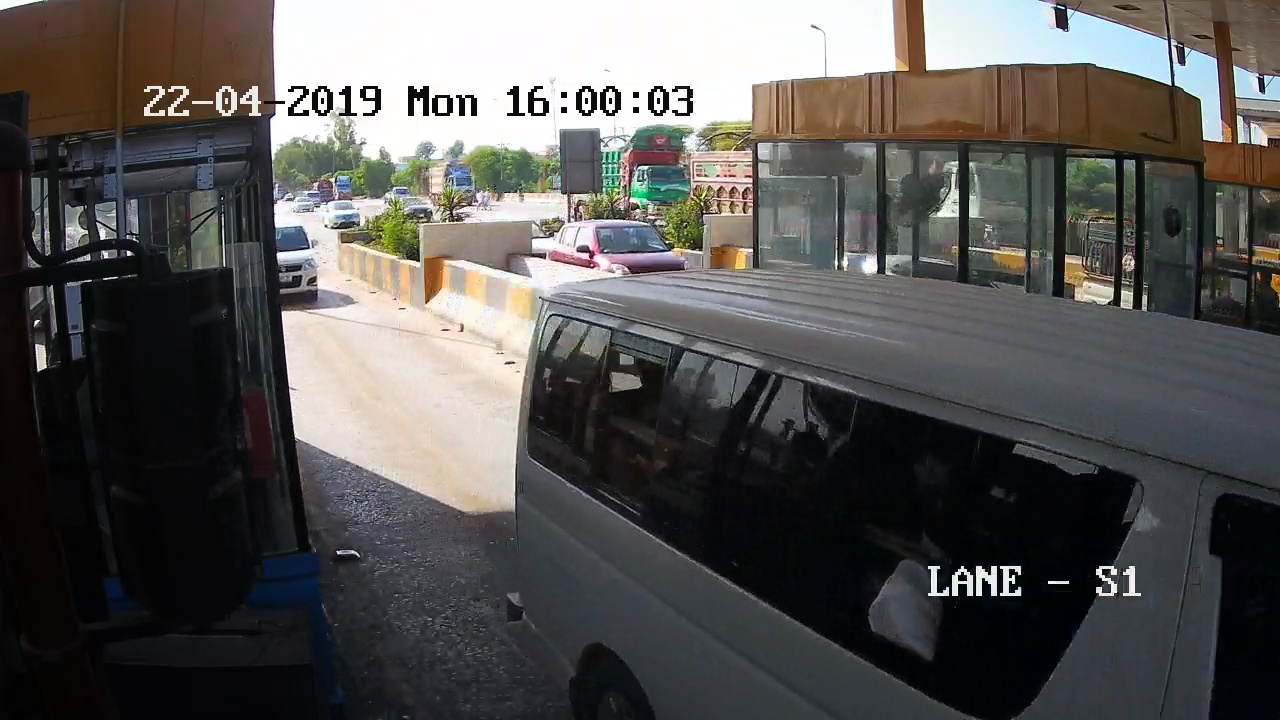car: (532, 274, 1212, 709), (277, 222, 340, 317)
